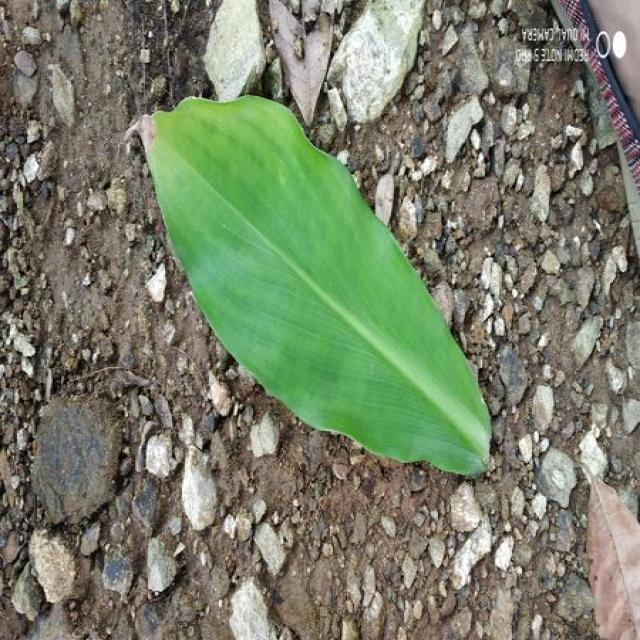insulin: (148, 96, 490, 474)
